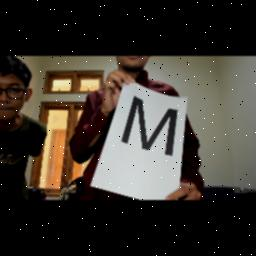m: (120, 94, 182, 160)
